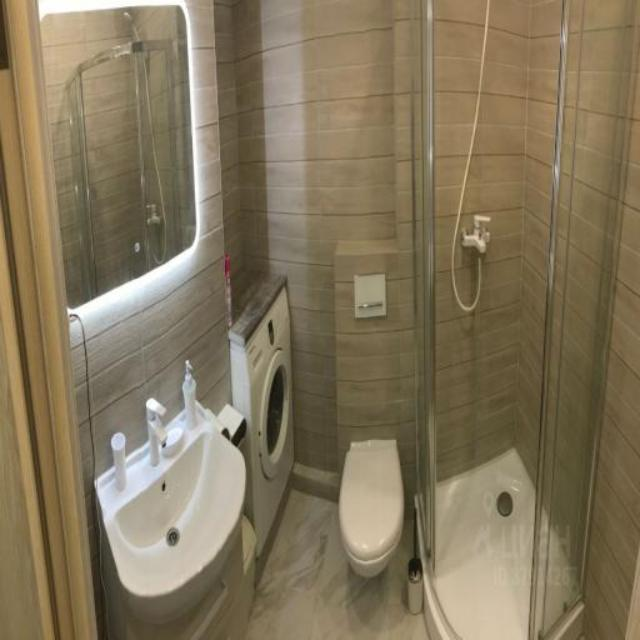Washing-Machine: (214, 270, 294, 558)
